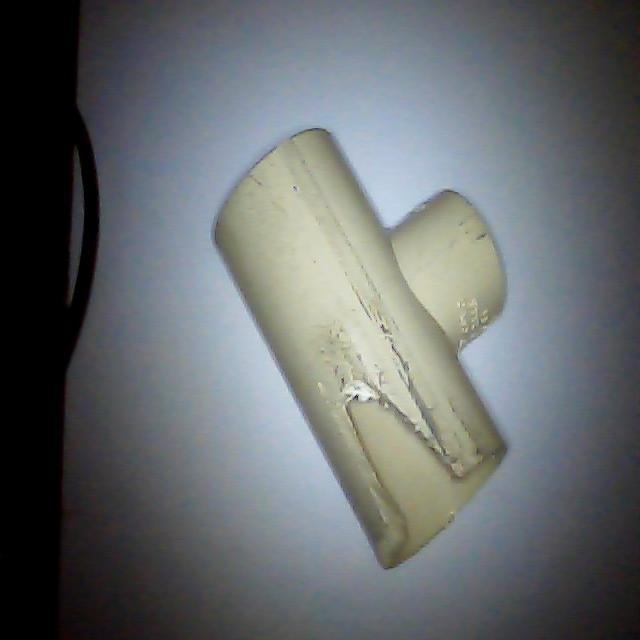Defective: (337, 377, 462, 532), (351, 402, 452, 523)
T Joint: (211, 128, 510, 572)
